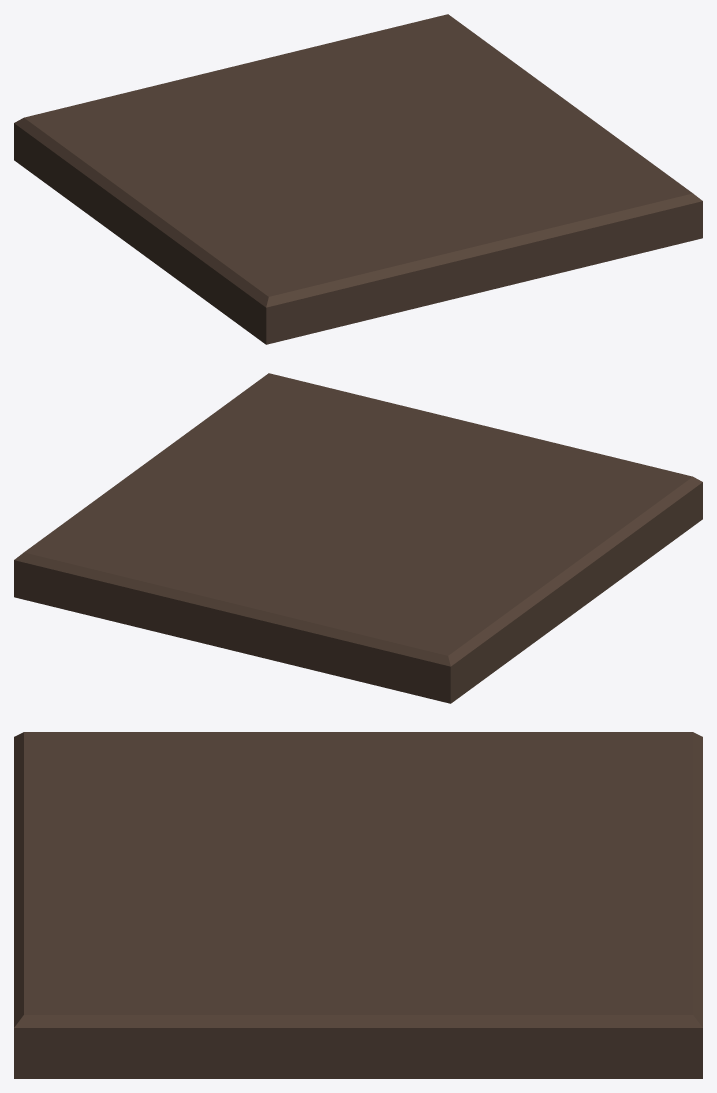
The model's file is SmallTile.fbx.
The picture shows the model from 3 angles, top to bottom: view 1: azimuth 30°, elevation 25°; view 2: azimuth 150°, elevation 25°; view 3: azimuth 270°, elevation 25°; orthographic projection. The views are drawn at different scales.
Parts seen in each view (by area): view 1: Tile01; view 2: Tile01; view 3: Tile01.
Part boxes in pixels (x1,y1,x2,y2): Tile01: (14,14,702,344); Tile01: (14,373,702,703); Tile01: (14,732,702,1078).
Bounding box in the file's own units: 1 × 0.0957 × 1.
